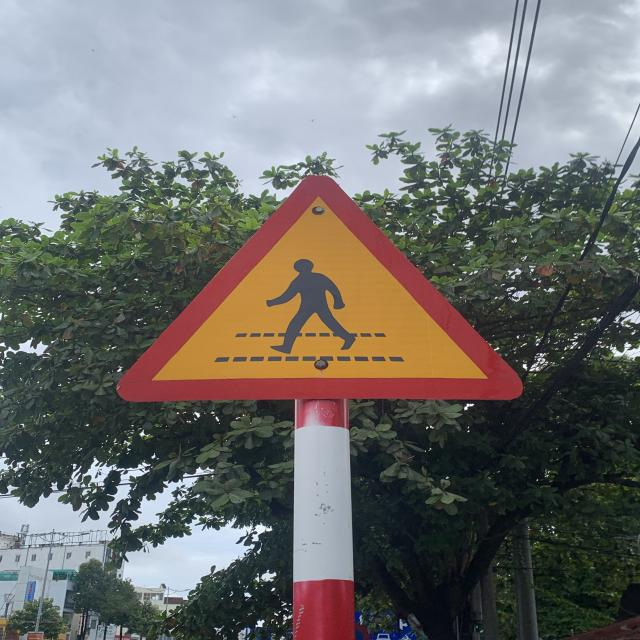Duong_Nguoi_Di_Bo_Sang_Ngang: (123, 176, 519, 398)
